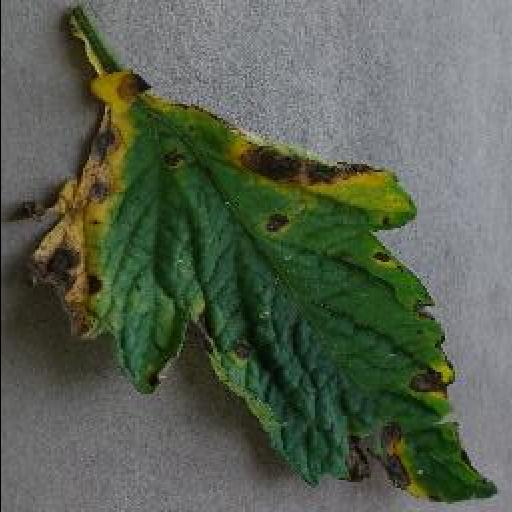disease_tomato: (26, 72, 498, 506)
